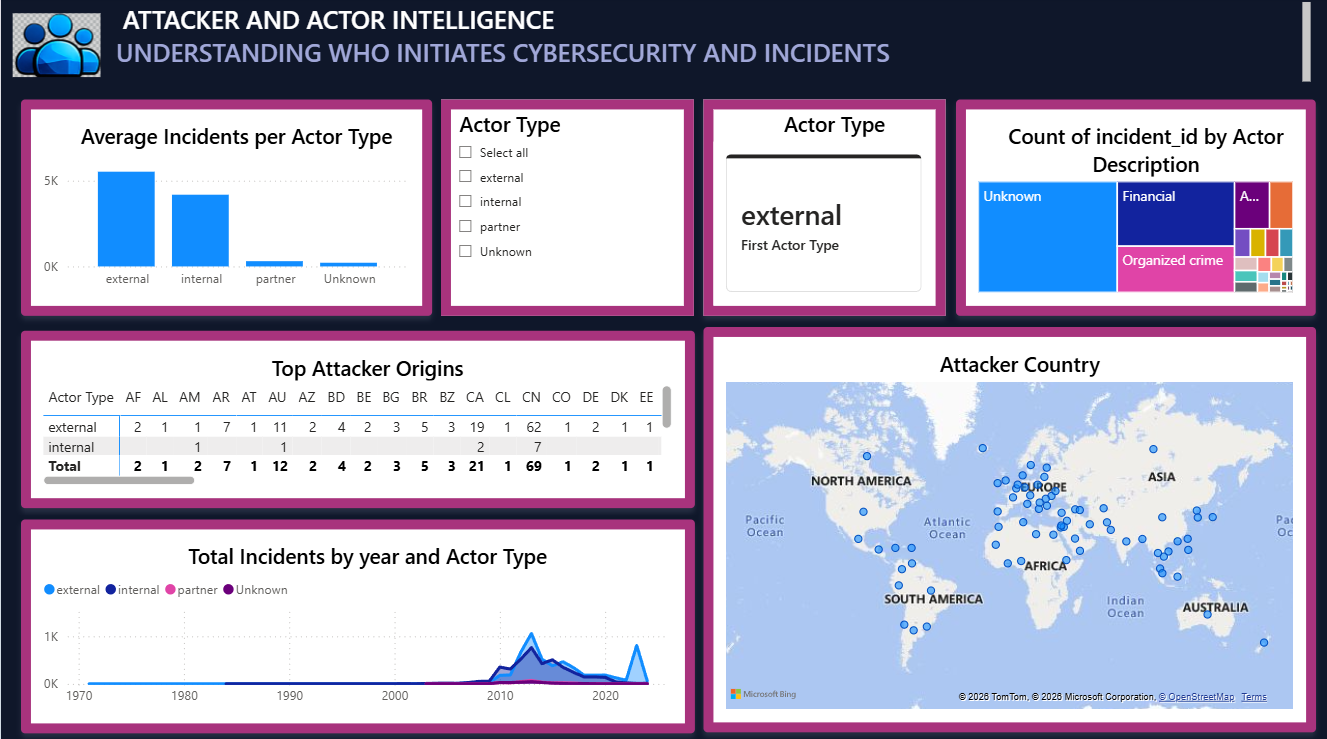

What the dashboard file says about the page in this screenshot:
{"tool":"powerbi","page":{"name":"Attacker and Actor Intelligence","canvas":[1280,720],"ordinal":2},"visuals":[{"type":"textbox","box":[0,0,1269.2,89.3],"z":0},{"type":"treemap","fields":{"Group":["result.Actor Description"],"Values":["CountNonNull(result.incident_id)"]},"box":[921.2,98.8,347.5,208.8],"z":1000},{"type":"pivotTable","title":"Top Attacker Origins","fields":{"Rows":["result.Actor Type"],"Values":["result.Total Incidents"],"Columns":["result.Attacker Country"]},"box":[18.8,322.5,650,171.2],"z":2000},{"type":"lineChart","fields":{"Category":["result.year"],"Y":["result.Total Incidents"],"Series":["result.Actor Type"]},"box":[688.8,348.8,333.8,210],"z":3000},{"type":"slicer","fields":{"Values":["result.Actor Type"]},"box":[425,98.8,243.8,208.8],"z":4000},{"type":"cardVisual","title":"Actor Type","fields":{"Data":["Min(result.Actor Type)"]},"box":[678,98.9,233.8,208.8],"z":5000},{"type":"areaChart","fields":{"Y":["result.Total Incidents"],"Category":["result.year"],"Series":["result.Actor Type"]},"box":[18.8,503.8,650,206.2],"z":6000},{"type":"map","fields":{"Category":["result.Attacker Country"]},"box":[677.5,318.8,591.2,391.2],"z":7000},{"type":"columnChart","title":"Average Incidents per Actor Type ","fields":{"Category":["result.Actor Type"],"Y":["result.Average Incidents per Actor Type"]},"box":[19.3,98.9,396.9,208.7],"z":8000},{"type":"image","box":[9.7,15.7,88.1,61.5],"z":9000}]}

Visuals, with their boxes in screenshot pixels (x1, y1, x2, y2), scaled from the page's 1280x720 canvas onto the 1327x739 screenshot:
textbox: {"left": 0, "top": 0, "right": 1316, "bottom": 92}
treemap - result.Actor Description x CountNonNull(result.incident_id): {"left": 955, "top": 101, "right": 1315, "bottom": 316}
"Top Attacker Origins" pivotTable: {"left": 19, "top": 331, "right": 693, "bottom": 507}
lineChart - result.year x result.Total Incidents: {"left": 714, "top": 358, "right": 1060, "bottom": 574}
slicer - result.Actor Type: {"left": 441, "top": 101, "right": 693, "bottom": 316}
"Actor Type" cardVisual: {"left": 703, "top": 102, "right": 945, "bottom": 316}
areaChart - result.Total Incidents x result.year: {"left": 19, "top": 517, "right": 693, "bottom": 729}
map - result.Attacker Country: {"left": 702, "top": 327, "right": 1315, "bottom": 729}
"Average Incidents per Actor Type " columnChart: {"left": 20, "top": 102, "right": 431, "bottom": 316}
image: {"left": 10, "top": 16, "right": 101, "bottom": 79}
